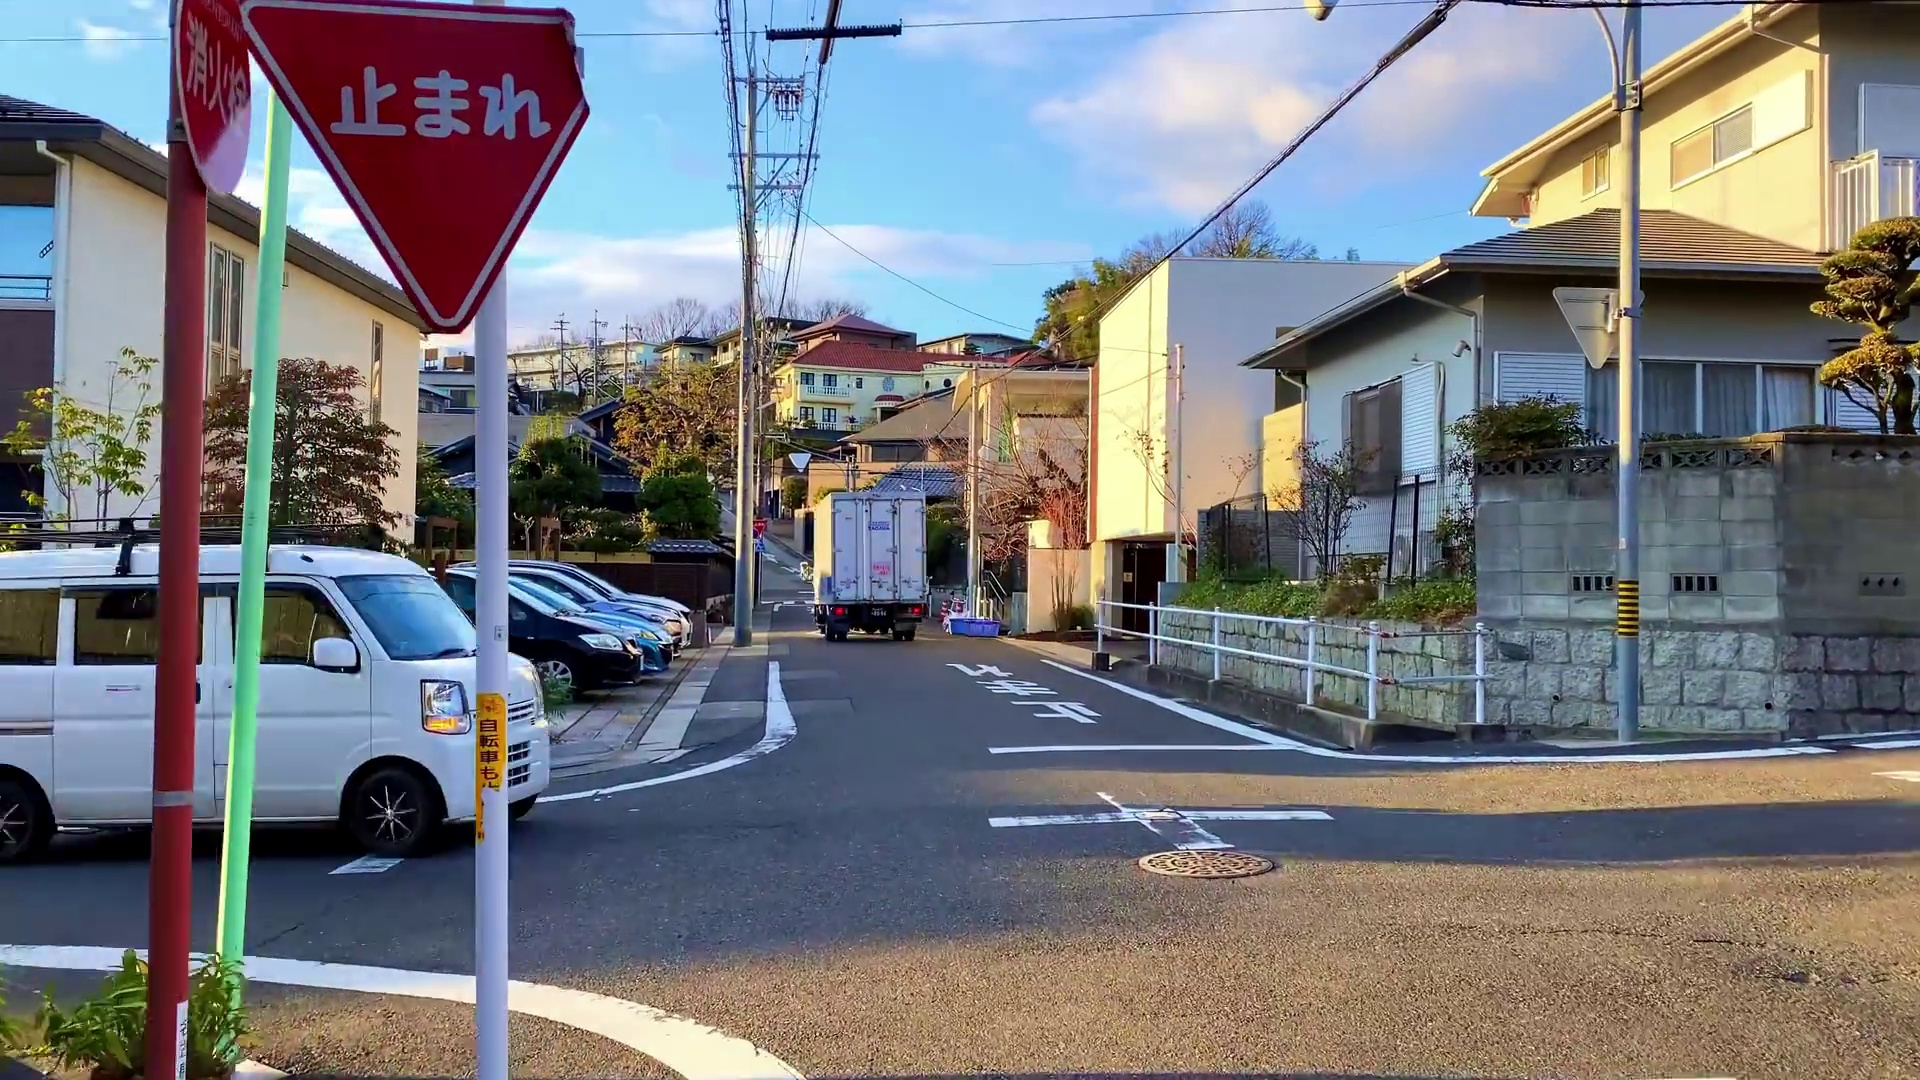car: (4, 550, 547, 861)
